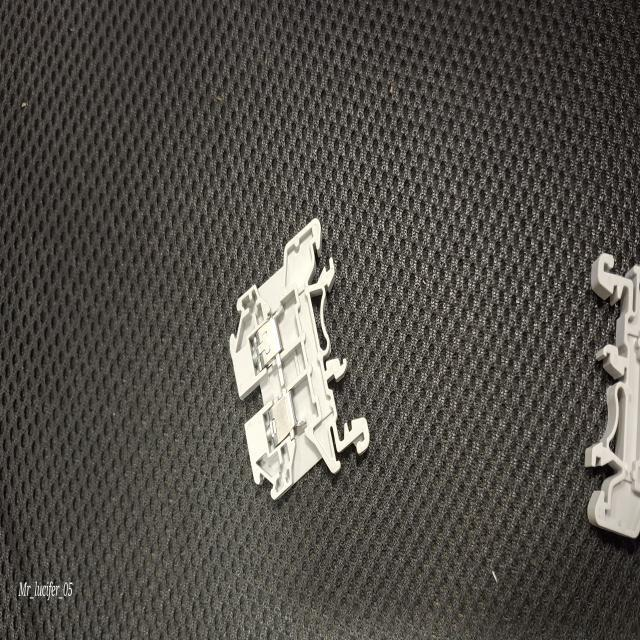Pass: (208, 196, 379, 546)
